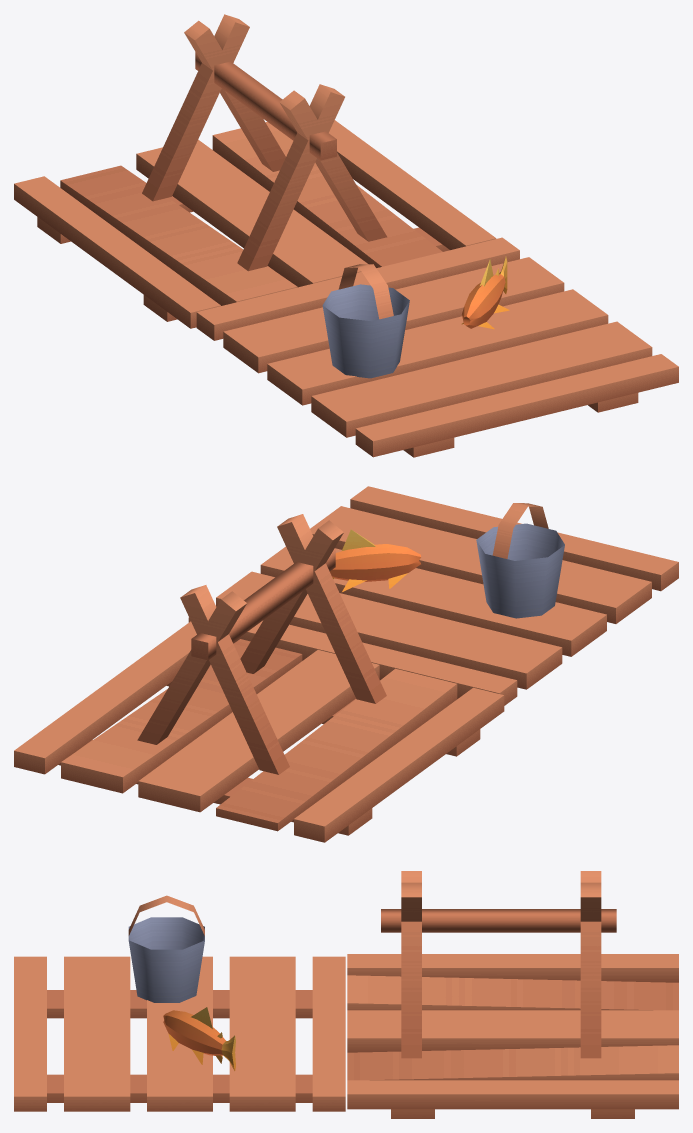
The model's file is bld_fishing_spot_1x2.glb.
3 renders of one model, top to bottom at view 1: azimuth 30°, elevation 25°; view 2: azimuth 150°, elevation 25°; view 3: azimuth 270°, elevation 25°, orthographic. The views are drawn at different scales.
Visible parts, largest first — view 1: floor, floor-old, campfire-fishing-stand, bucket, fish; view 2: floor-old, floor, campfire-fishing-stand, bucket, fish; view 3: floor-old, floor, campfire-fishing-stand, bucket, fish.
Part boxes in pixels (x1=…): floor: x1=196, y1=237, x2=678, y2=457; floor-old: x1=14, y1=120, x2=496, y2=328; campfire-fishing-stand: x1=142, y1=14, x2=387, y2=271; bucket: x1=322, y1=264, x2=409, y2=378; fish: x1=461, y1=256, x2=509, y2=329; floor-old: x1=14, y1=621, x2=504, y2=842; floor: x1=188, y1=486, x2=678, y2=705; campfire-fishing-stand: x1=137, y1=514, x2=386, y2=774; bucket: x1=476, y1=503, x2=564, y2=618; fish: x1=329, y1=529, x2=420, y2=591; floor-old: x1=347, y1=954, x2=678, y2=1118; floor: x1=14, y1=956, x2=345, y2=1111; campfire-fishing-stand: x1=381, y1=871, x2=616, y2=1058; bucket: x1=128, y1=895, x2=204, y2=1002; fish: x1=163, y1=1007, x2=235, y2=1070.
Bounding box in the file's own units: 1.02 × 0.5768 × 2.
5 materials, 5 textured.
